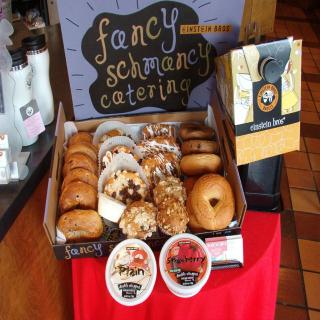Doughnut: (56, 123, 236, 242)
